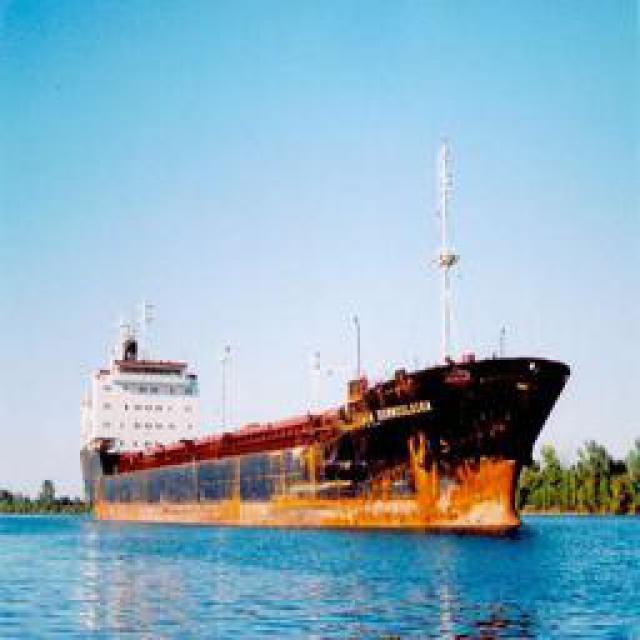Ship: (85, 326, 570, 536)
